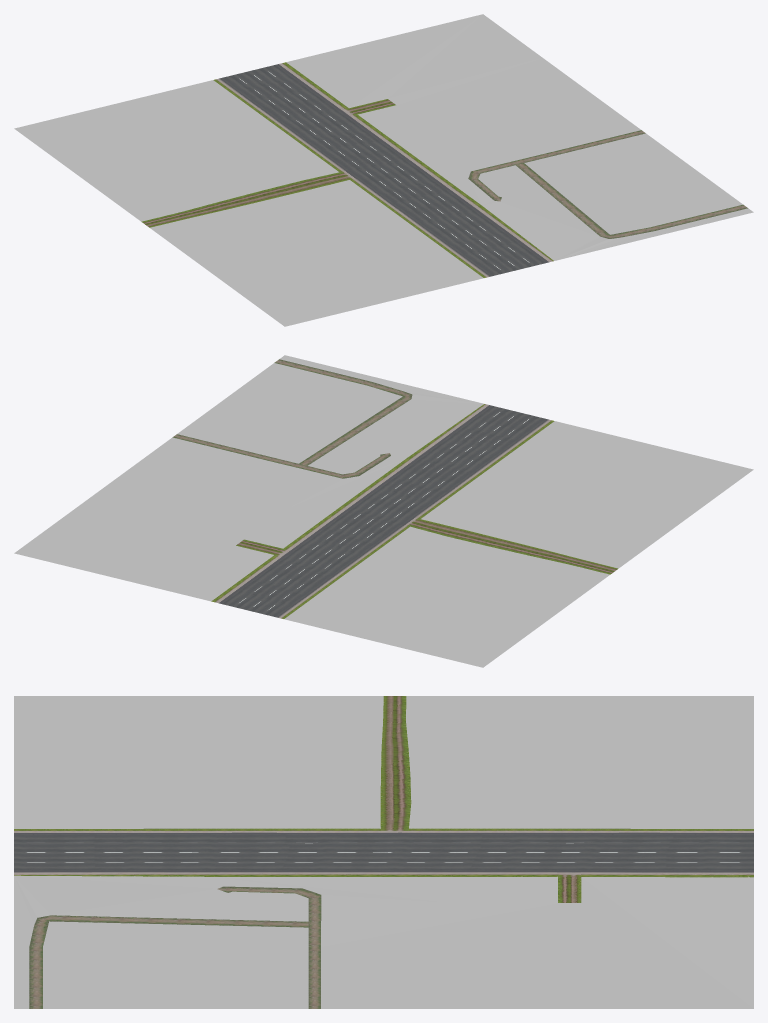
File: road2.FBX
3 views of the same model, one above another, from view 1: azimuth 30°, elevation 25°; view 2: azimuth 150°, elevation 25°; view 3: azimuth 270°, elevation 25° (orthographic). The views are drawn at different scales.
Parts seen in each view (by area): view 1: road; view 2: road; view 3: road.
Boxes of the visible parts, x1,y1,x2,y2 form: road: (14, 14, 753, 326); road: (14, 355, 753, 667); road: (14, 696, 753, 1008).
Size of the model in its own units: 12000 by 6.88 by 12000.
